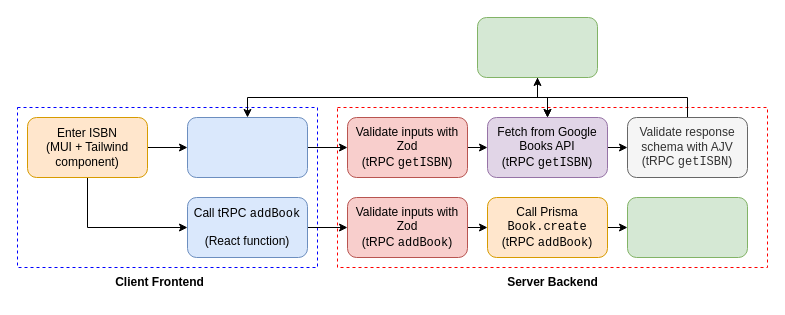
Some shapes in this 785 by 315 pixel diagram are drawn without their labels. Here are the shapes that lost their labels. From the top down, the box of each, then its label:
(476, 16, 598, 78): Google Books API (REST, returns JSON)
(186, 116, 308, 178): Call tRPC getISBN (React function)
(626, 196, 748, 258): Create Book in DB (Prisma Book.create )
